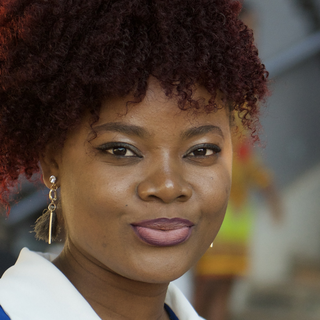eye: (95, 139, 145, 164), (179, 139, 225, 164)
